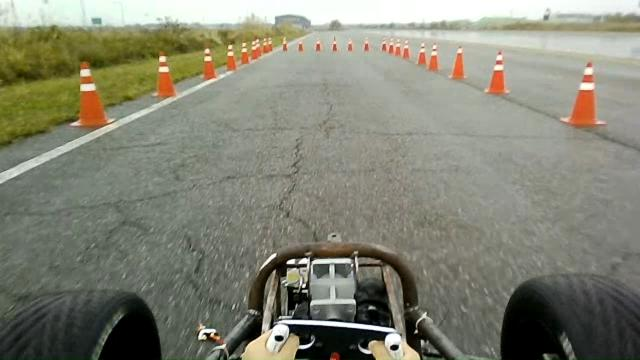red cone: (68, 60, 116, 128), (562, 61, 609, 127), (484, 48, 510, 94), (152, 51, 177, 98), (449, 46, 467, 80), (201, 46, 217, 81), (428, 42, 440, 71), (225, 44, 237, 71), (416, 42, 426, 66), (240, 41, 250, 64), (402, 39, 410, 59)
